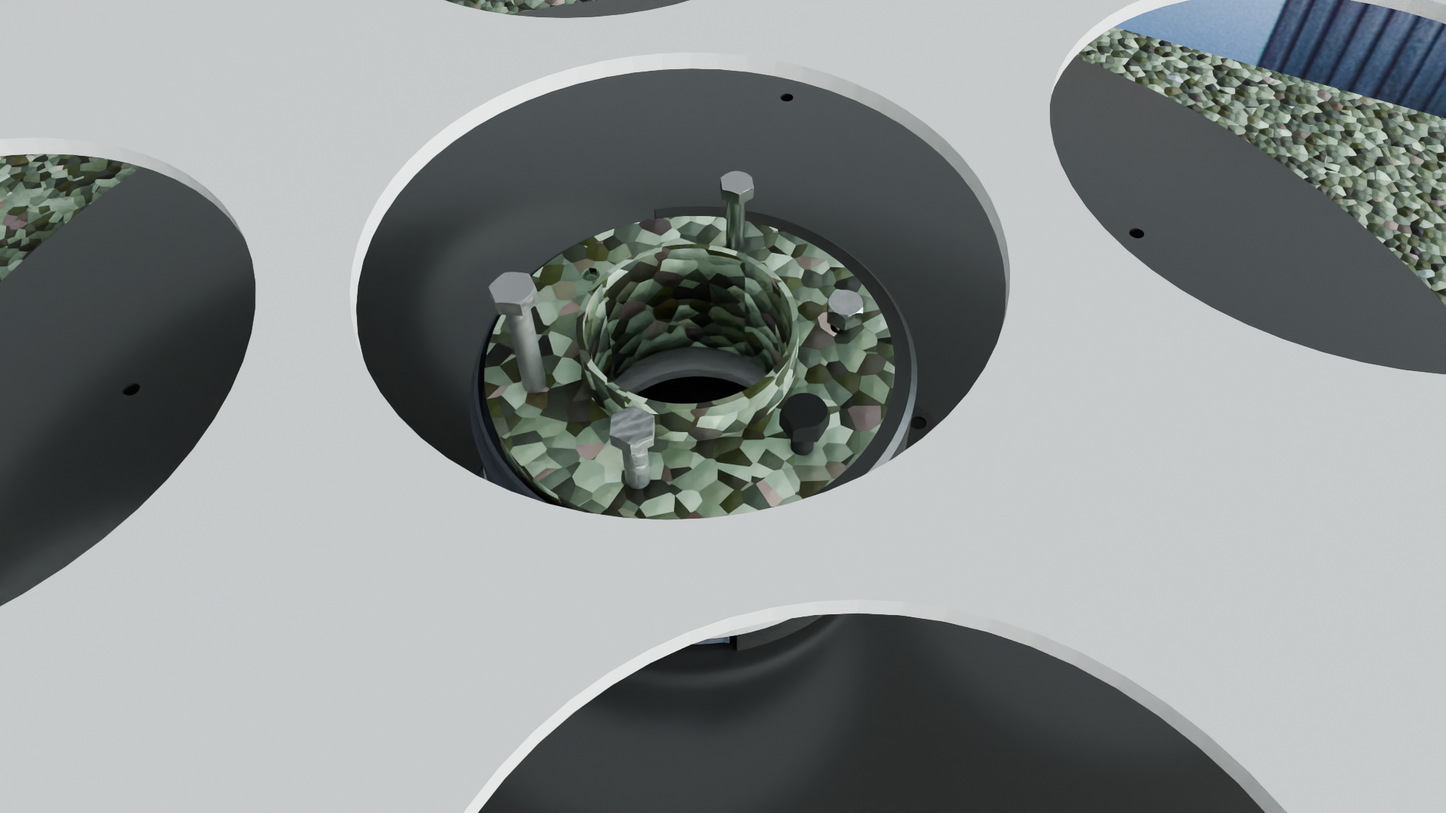bolt: (780, 393, 831, 431), (609, 406, 654, 445), (489, 272, 537, 304), (828, 290, 863, 320), (720, 170, 754, 195)
